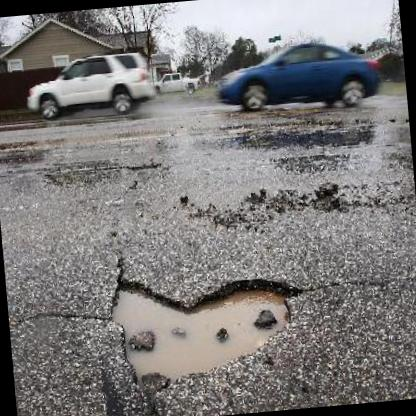pothole: (105, 263, 306, 390), (237, 120, 372, 158), (0, 136, 38, 151)
